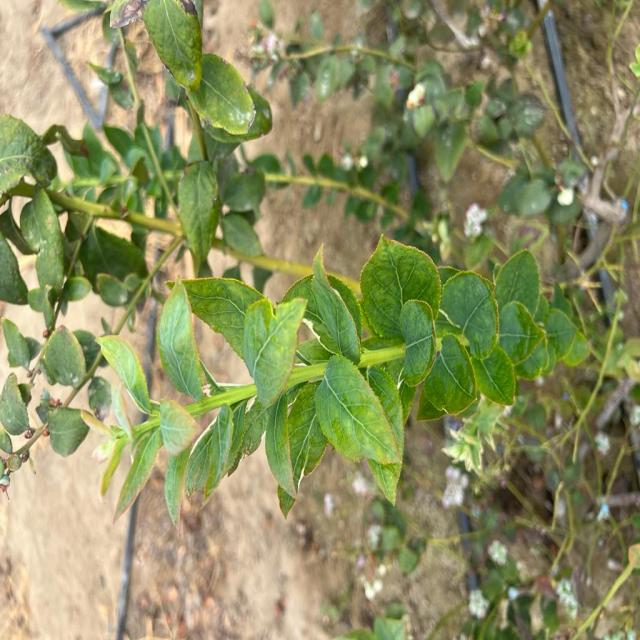Hojas con oidiosis: (6, 189, 84, 293), (182, 51, 255, 136)
Hojas sanas sin oidiosis: (146, 273, 242, 402), (313, 353, 401, 471), (358, 230, 442, 343), (433, 268, 501, 358)
